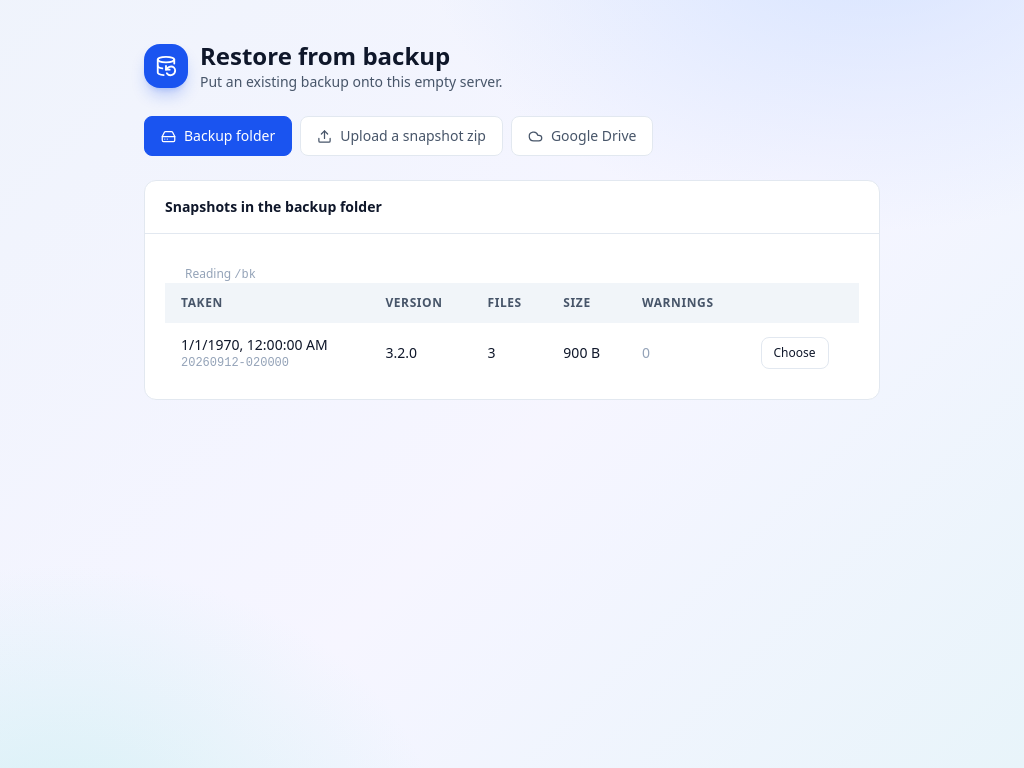
Scenario: RestorePage › keeps the progress screen when the server says a restore is already running
The image size is (1024, 768).
Click the button with test id "restore-snapshot-20260912-020000" at (794, 353), box [760,337,828,369]
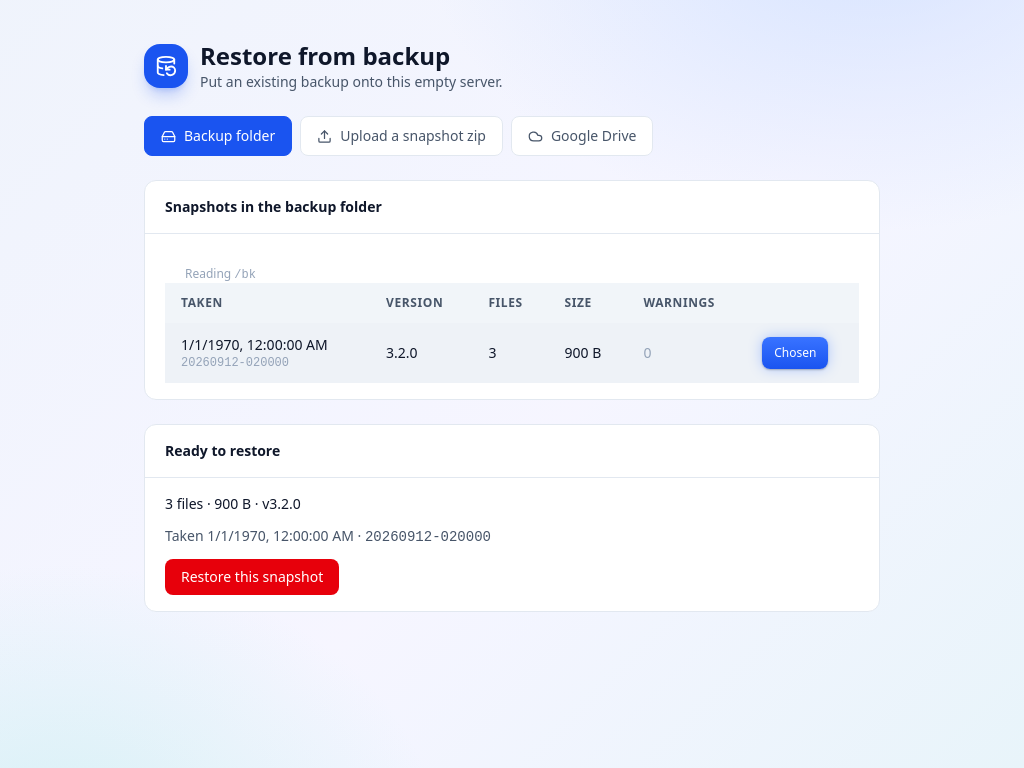
Click the button with test id "restore-confirm" at (252, 577), box [165,559,339,595]
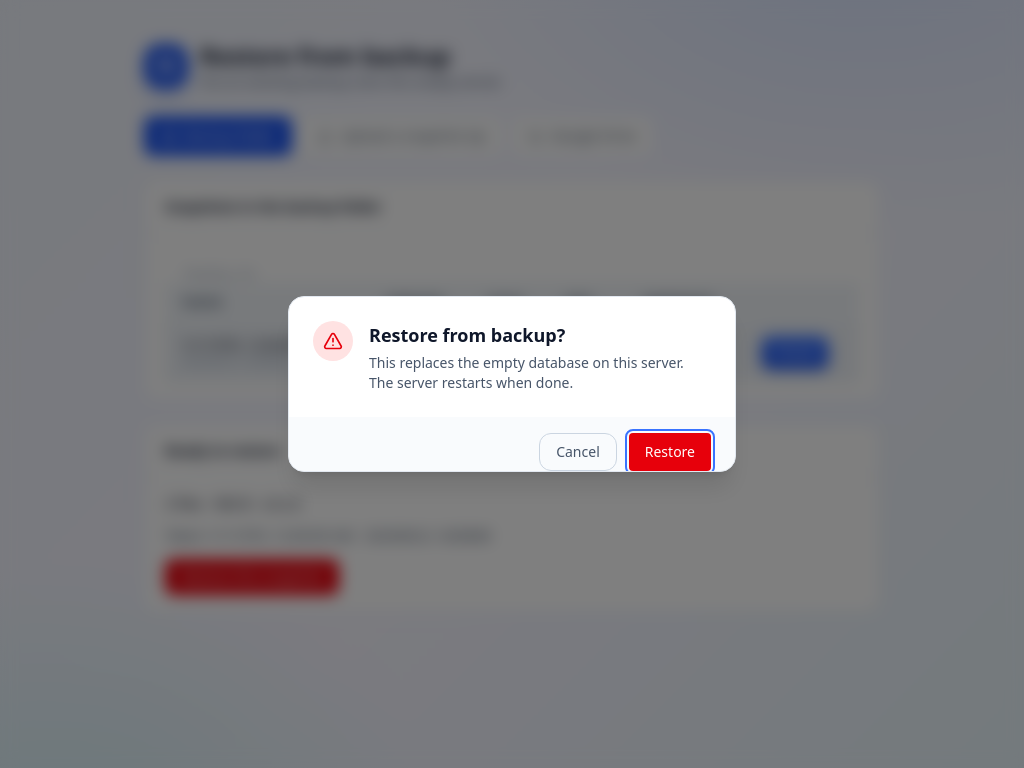
Click the button "Restore" at (670, 452), box [629,433,711,471]
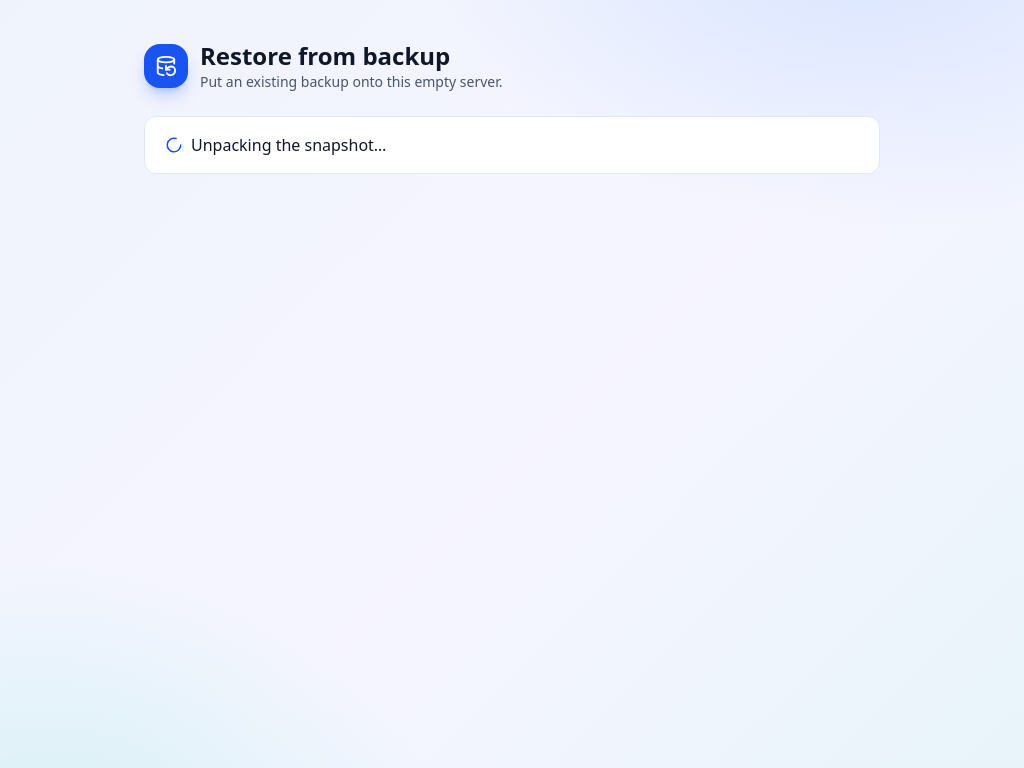
Expected: the element with test id "restore-progress" shows "Unpacking", [191,134,386,156]
Expected: the button with test id "restore-source-local" is gone
